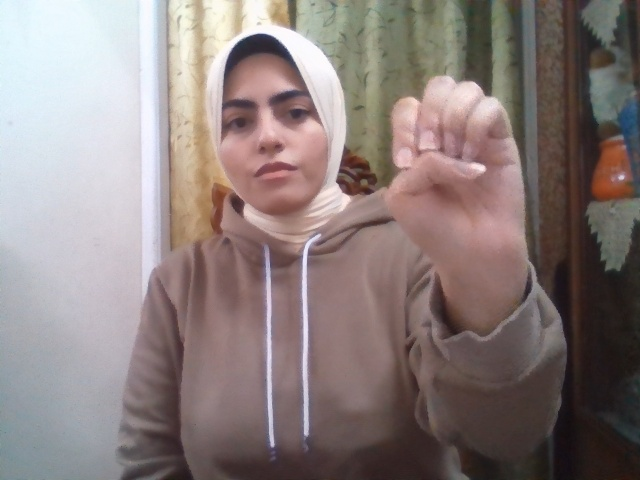E: (384, 77, 527, 281)
